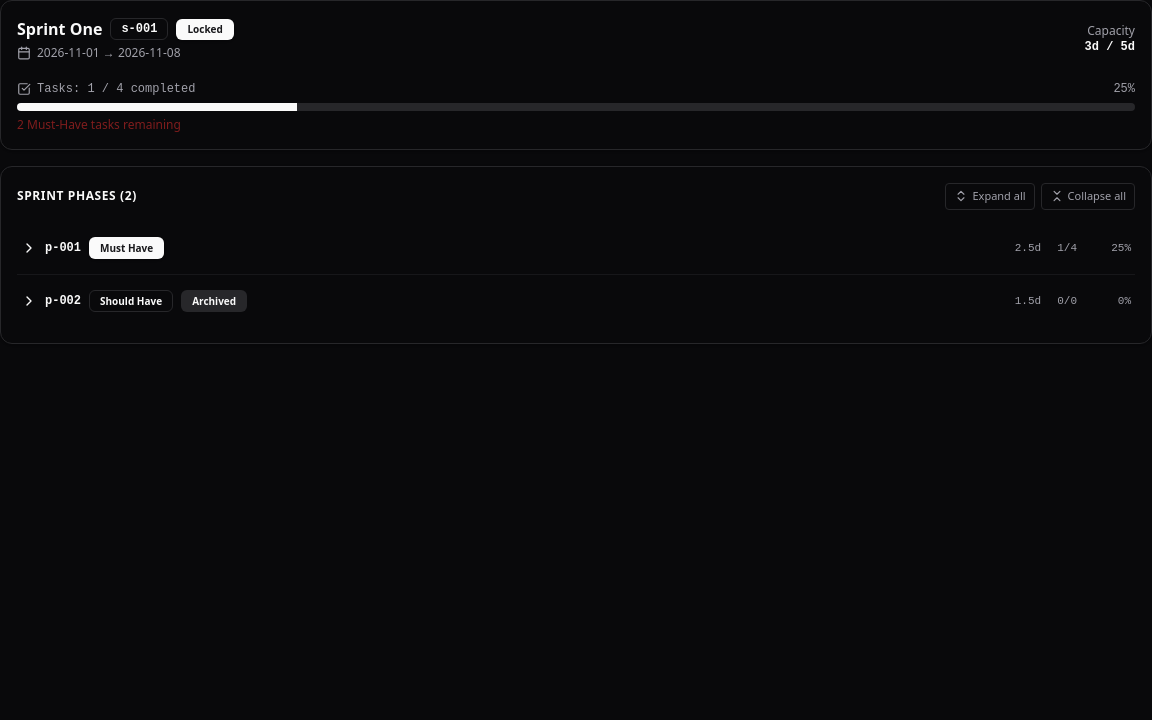
Test case: SprintProgressPanel drill-down › supports Expand all and Collapse all
Click the button "Expand all" at x=990, y=196, box [946,183,1035,210]
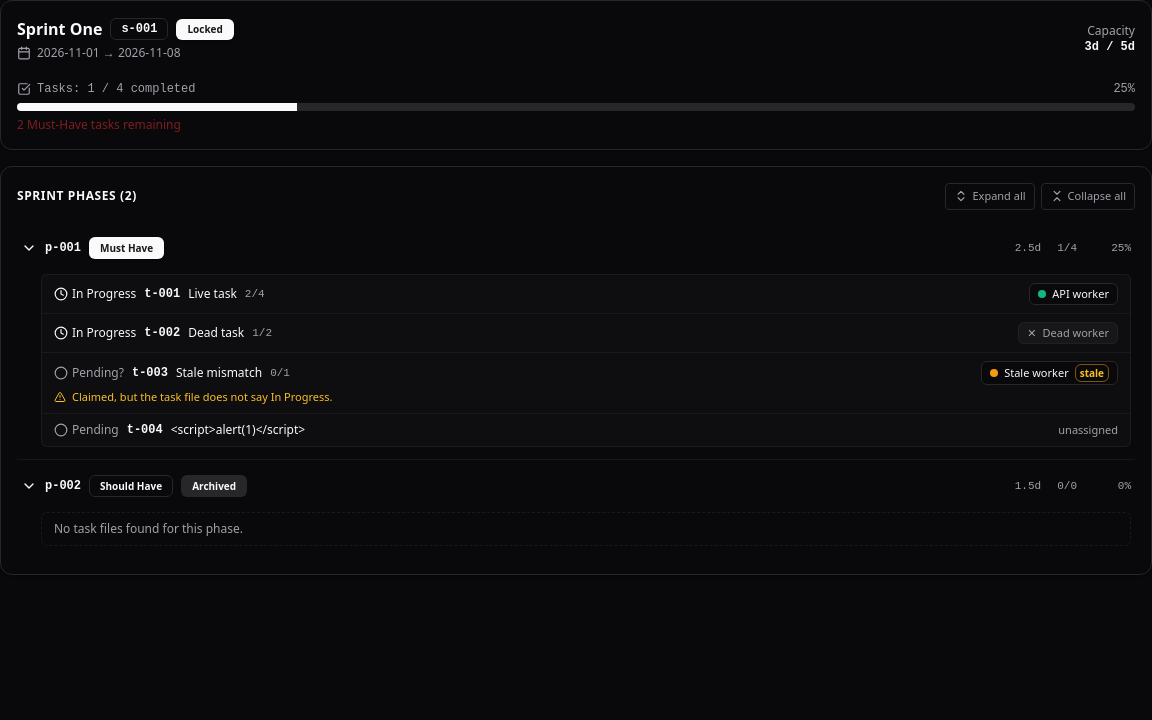
Check: the text "Live task" is shown, box [188,286,237,302]
Check: the text "No task files found for this phase." is shown, box [41,512,1131,546]
Click the button "Collapse all" at x=1088, y=196, box [1041,183,1135,210]
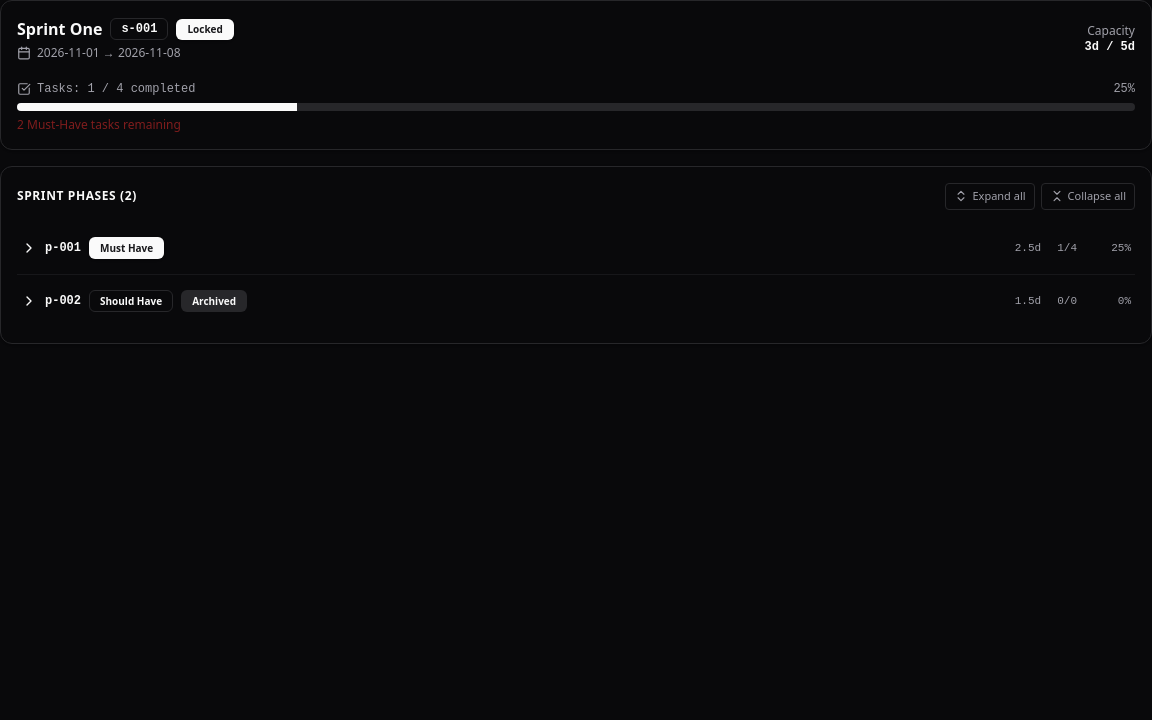
Check: the text "Live task" is gone
Check: the text "No task files found for this phase." is gone
